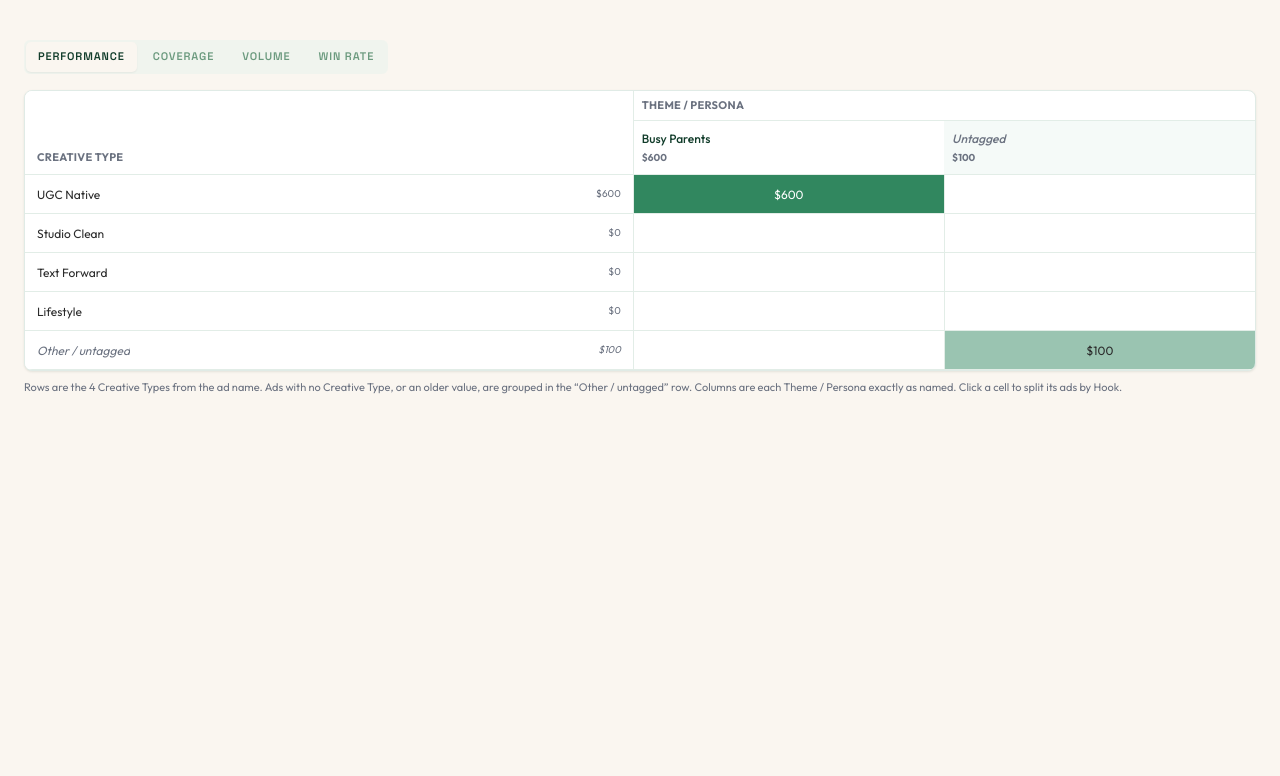
Scenario: US-008: drill a Creative Type × Theme cell into its hook split and open the atomic ad (e2e 1) › splits the cell by exact hook, then opens the correct ad with spend + metric
The width and height of the screenshot is (1280, 776).
Check: the text "Busy Parents" is shown, box x1=642 y1=131 x2=710 y2=146
Click the button named "UGC Native × Busy Parents:": x=789, y=194 x1=634 y1=175 x2=944 y2=213
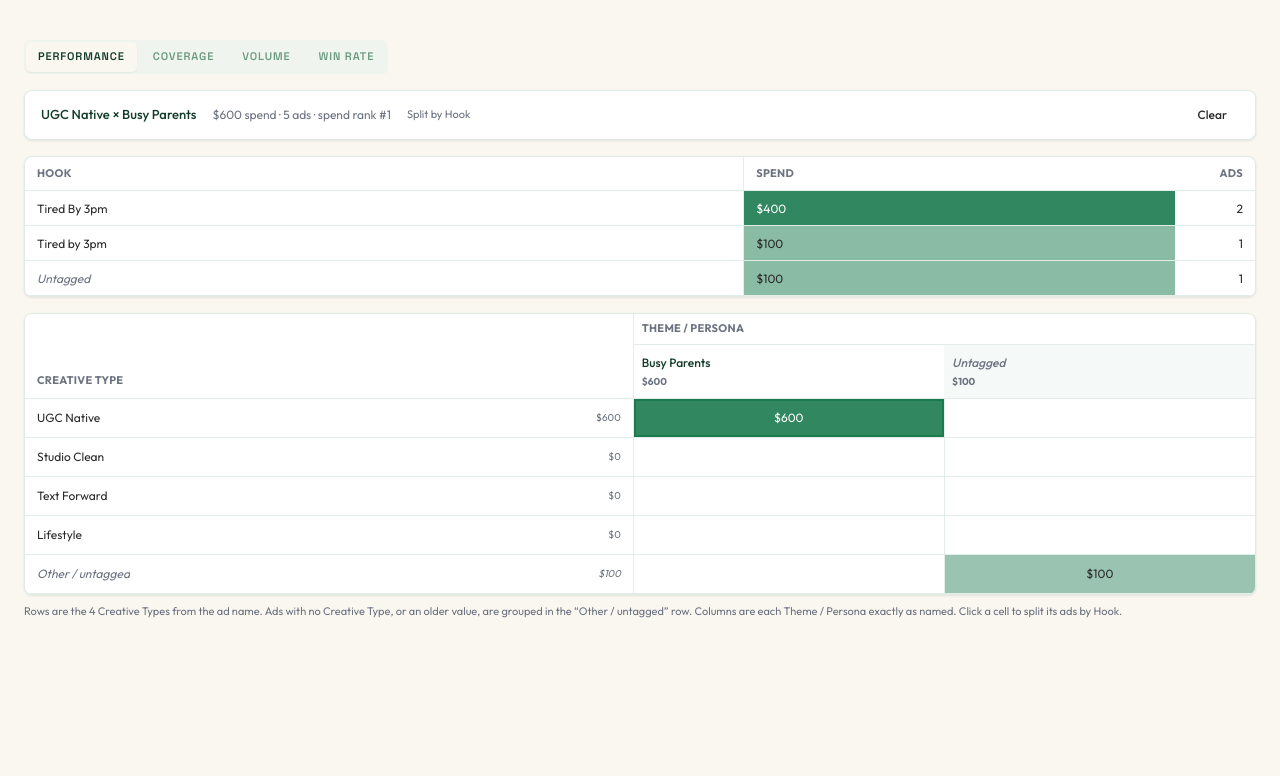
Check: the element with test id "cell-drilldown" is shown, box x1=24 y1=156 x2=1256 y2=297
Check: the text "Split by Hook" is shown, box x1=407 y1=106 x2=470 y2=123
// Open the top hook: its two ads, the top one with its OWN spend and ROAS.
Click the button named "Hook Tired By 3pm:": x=771, y=208 x1=744 y1=191 x2=1175 y2=225
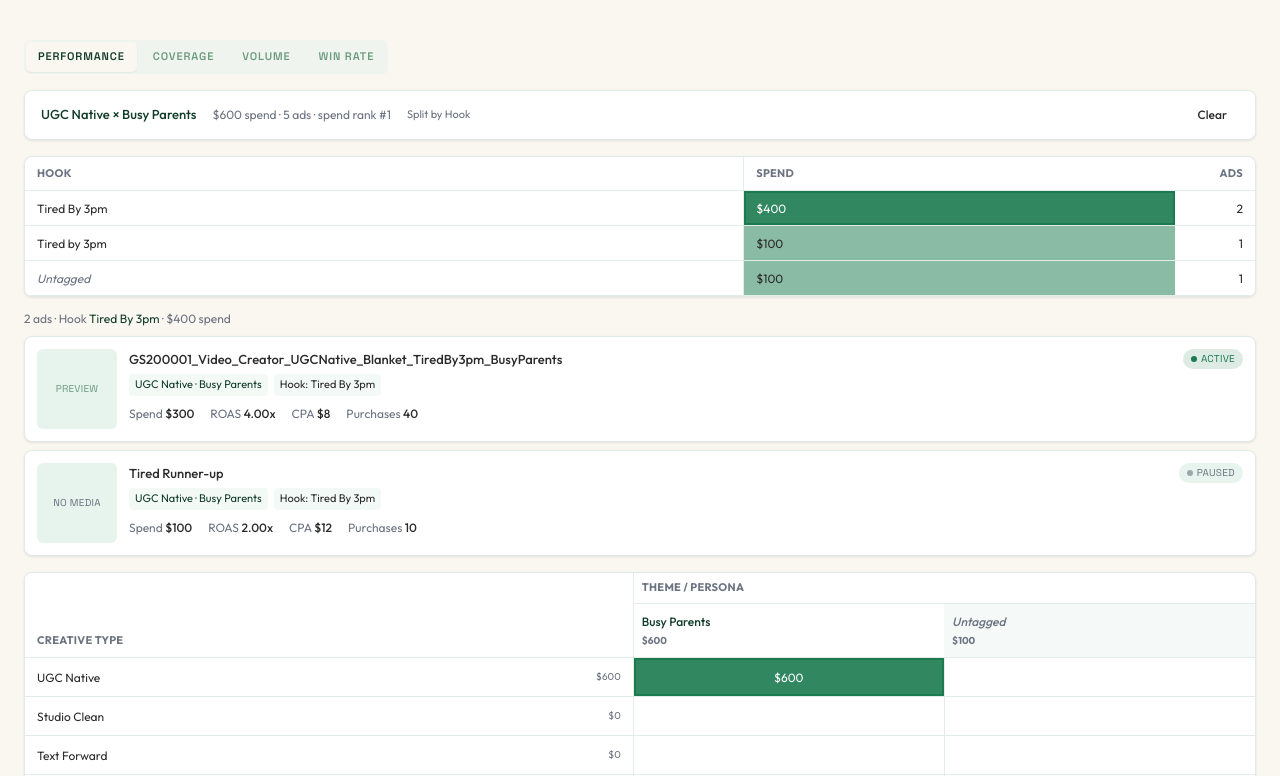
Check: the element with test id "atomic-ad-panel" is shown, box x1=24 y1=309 x2=1256 y2=556
Check: the number of elements with test id "atomic-ad-card" is 2, box x1=24 y1=336 x2=1256 y2=442; x1=24 y1=450 x2=1256 y2=556
Check: the text "GS200001_Video_Creator_UGCNative_Blanket_TiredBy3pm_BusyParents" is shown, box x1=129 y1=349 x2=562 y2=370
